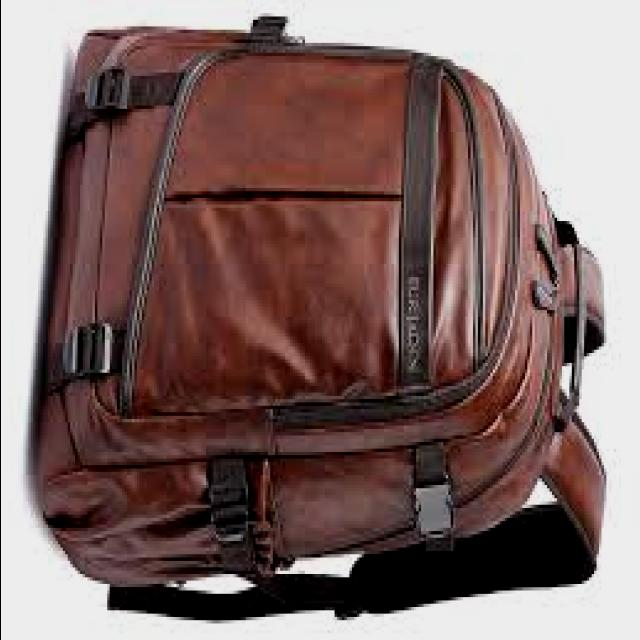backpack: (35, 14, 609, 621)
